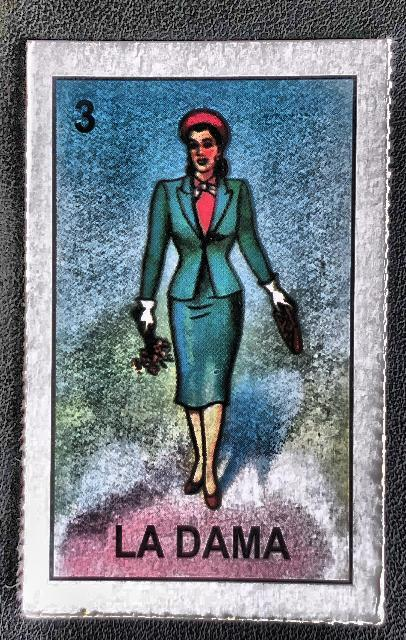La Dama: (37, 51, 372, 604)
